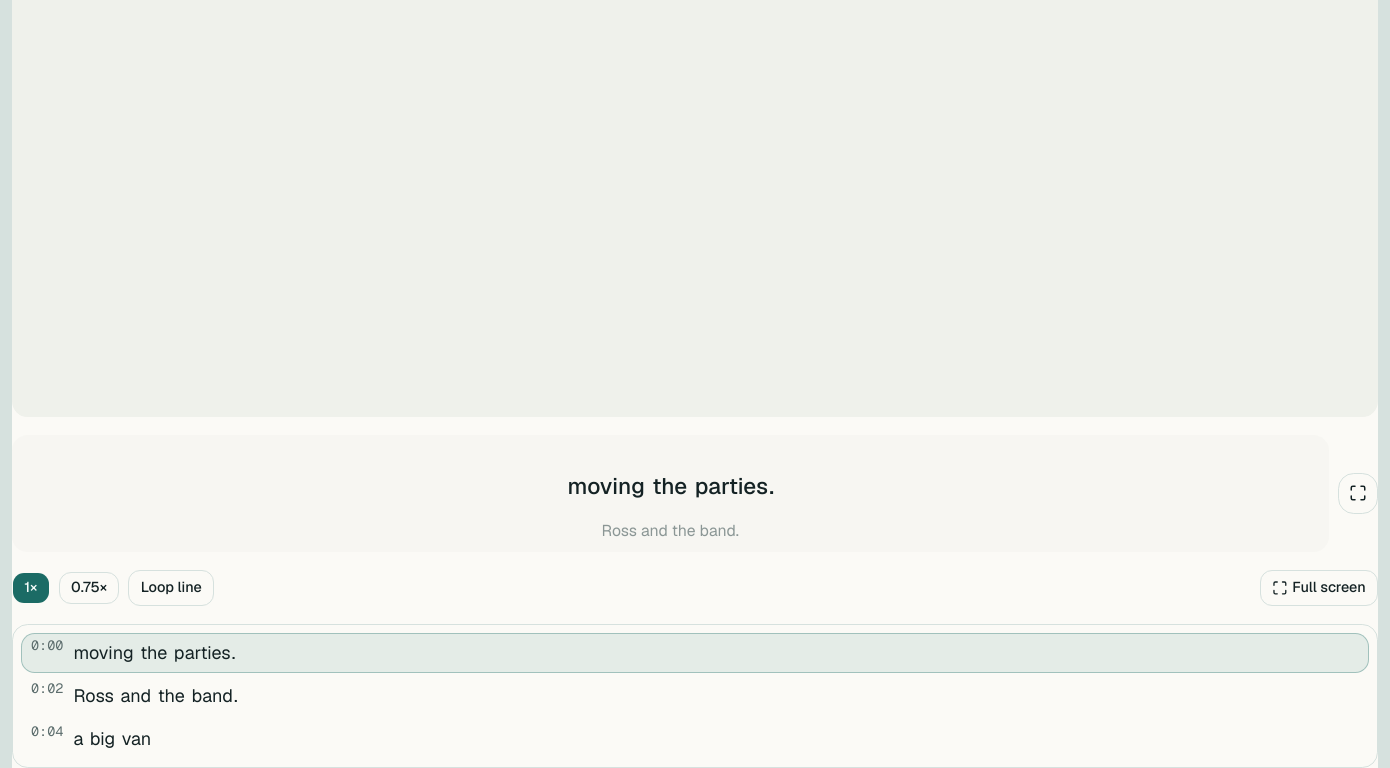
the popover, on a desktop pointer › appears after 250 ms on a word, with the first sense and the learner's language
This screenshot has width=1390, height=768.
(page scrolled)
Step 1. Hover over the 2nd button "moving" → (104, 653), box [72,638,135,668]
Wait 250 ms
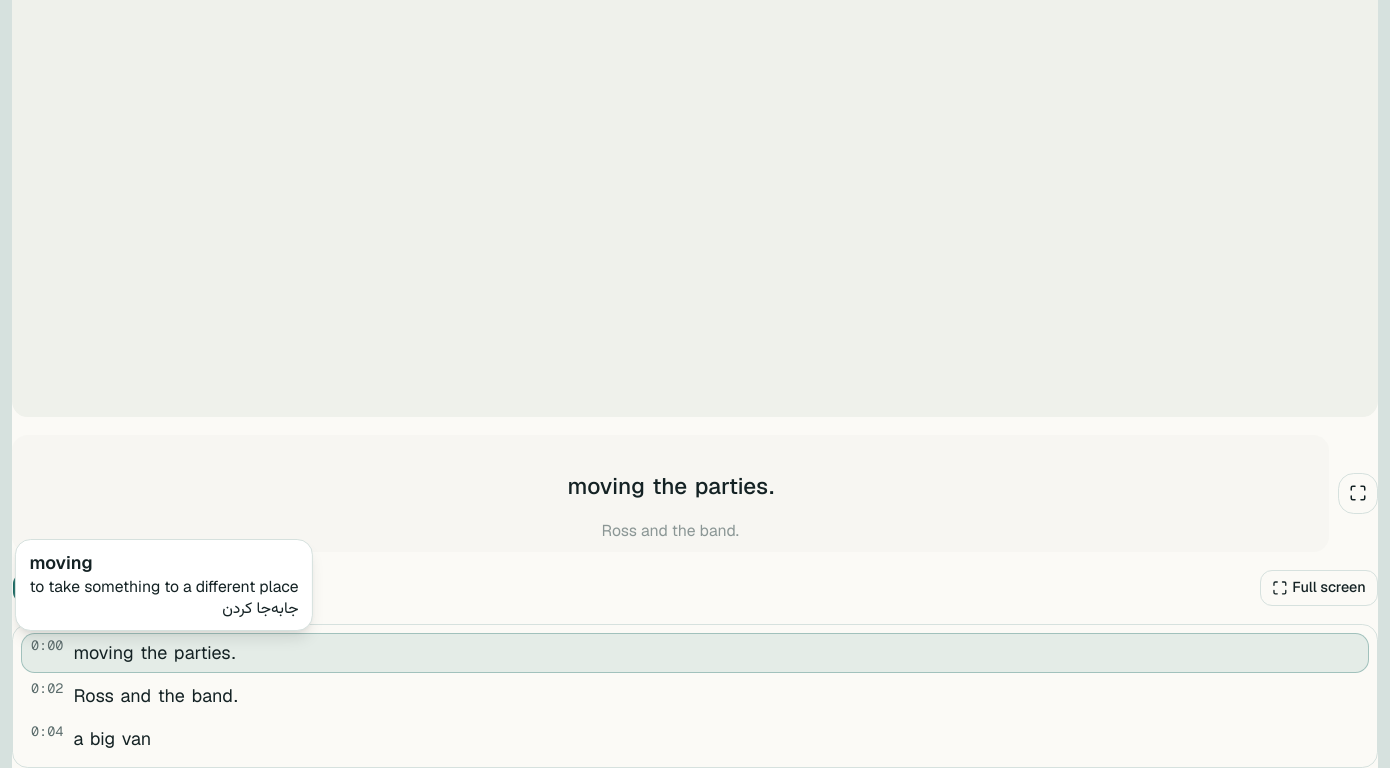
Result: the tooltip with test id "word-popover" shows "moving" at [29,551,93,574]
Result: the tooltip with test id "word-popover" shows "to take something to a different place" at [29,576,299,597]
Result: the text with test id "word-popover-l1" reads "جابه‌جا کردن" at [222,597,299,621]
